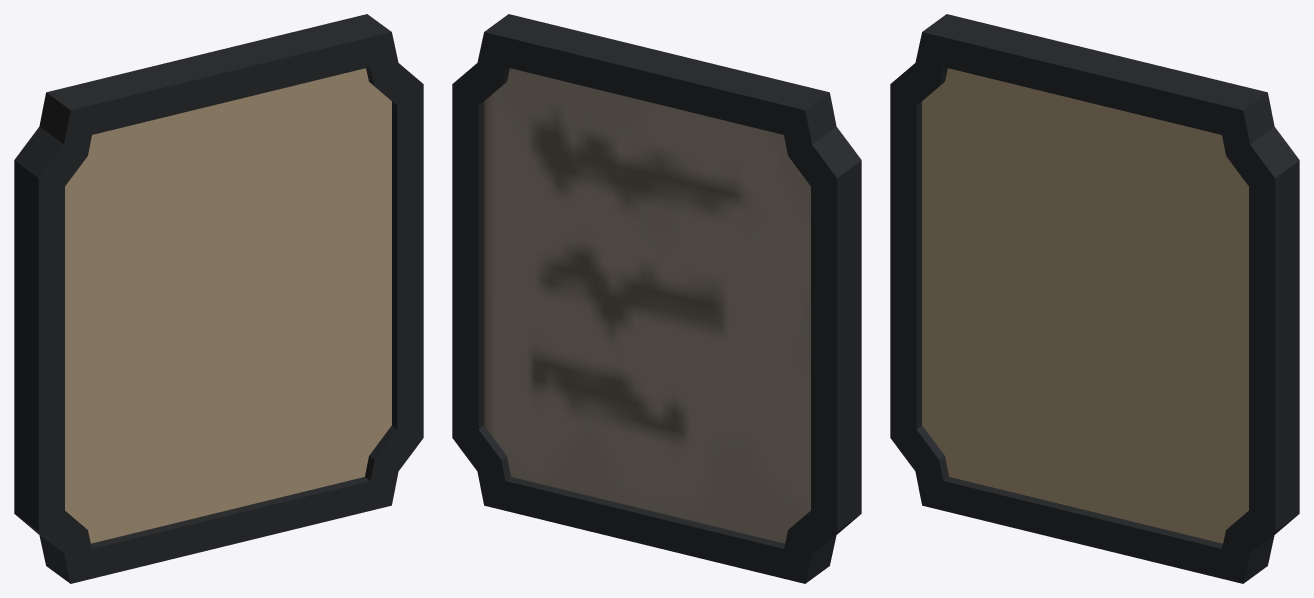
Rendered from tablet.glb.
3 views of the same model, side by side, from view 1: azimuth 30°, elevation 25°; view 2: azimuth 150°, elevation 25°; view 3: azimuth 330°, elevation 25° (orthographic).
Visible parts, largest first — view 1: SM_Prop_Sign_Wood_04; view 2: SM_Prop_Sign_Wood_04; view 3: SM_Prop_Sign_Wood_04.
Boxes of the visible parts, left/top/right/bottom form: SM_Prop_Sign_Wood_04: left=14, top=14, right=423, bottom=583; SM_Prop_Sign_Wood_04: left=452, top=14, right=861, bottom=583; SM_Prop_Sign_Wood_04: left=890, top=14, right=1299, bottom=583.
Size of the model in its own units: 0.7121 by 0.8372 by 0.0788.
1 material, 1 textured.
